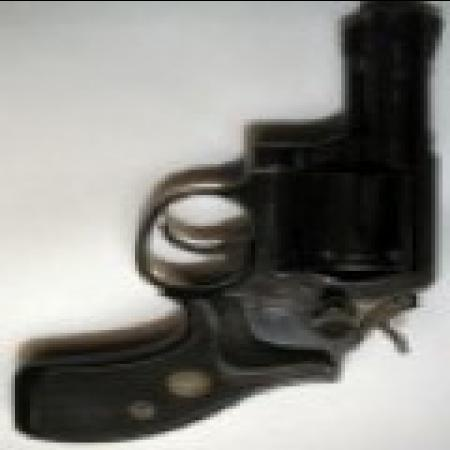Pistol: (30, 3, 442, 439)
